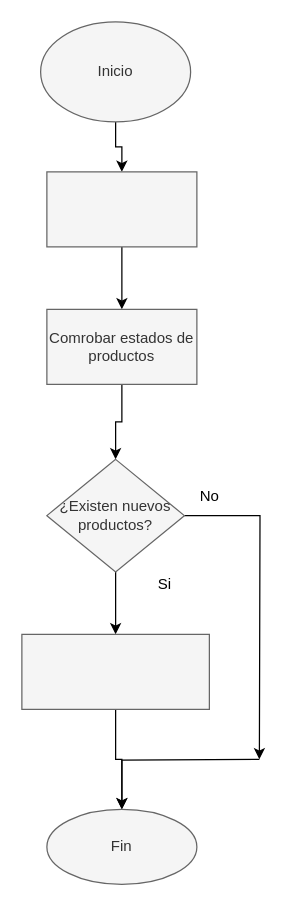
The diagram is 293 pixels wide and 906 high, and some of its shapes have lost their labels. Here are the shapes that lost their labels. From the top down, the centre of each, then its label:
At point (121, 209): "Crear productos desde odoo".
At point (115, 671): "Sincronizar productos a handy - odoo".
